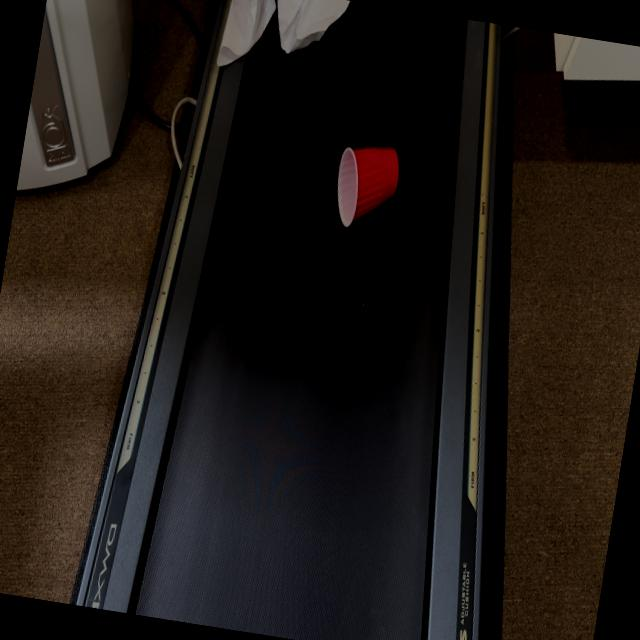Recycle: (214, 0, 351, 85), (327, 142, 404, 240)
